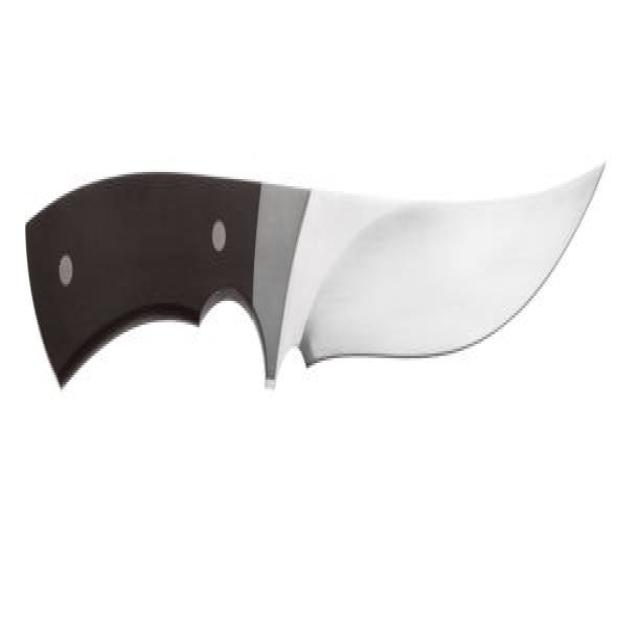knife: (23, 154, 612, 402)
